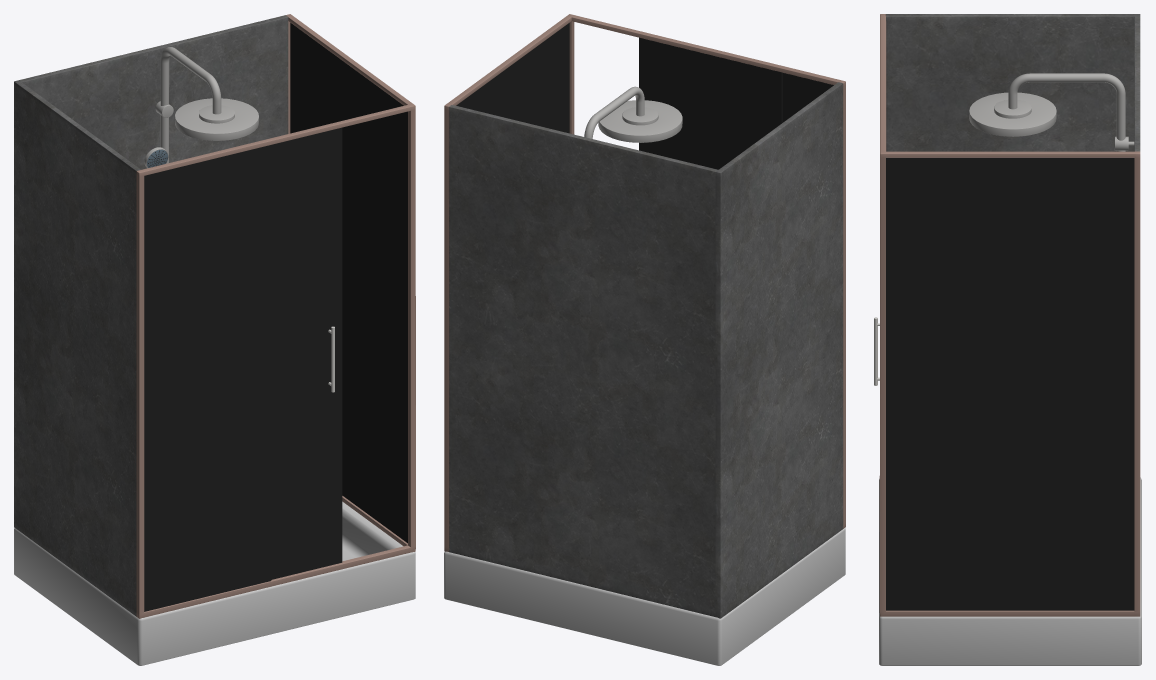
File: shower_cabin.glb
3 views of the same model, side by side, from view 1: azimuth 30°, elevation 25°; view 2: azimuth 150°, elevation 25°; view 3: azimuth 270°, elevation 25° (orthographic). The views are drawn at different scales.
Visible parts, largest first — view 1: shower_cabin; view 2: shower_cabin; view 3: shower_cabin.
Boxes of the visible parts, x1,y1,x2,y2 form: shower_cabin: (14, 14, 415, 665); shower_cabin: (444, 14, 845, 665); shower_cabin: (874, 14, 1141, 665).
Bounding box in the file's own units: 1.18 × 2.05 × 0.95.
4 materials, 4 textured.
